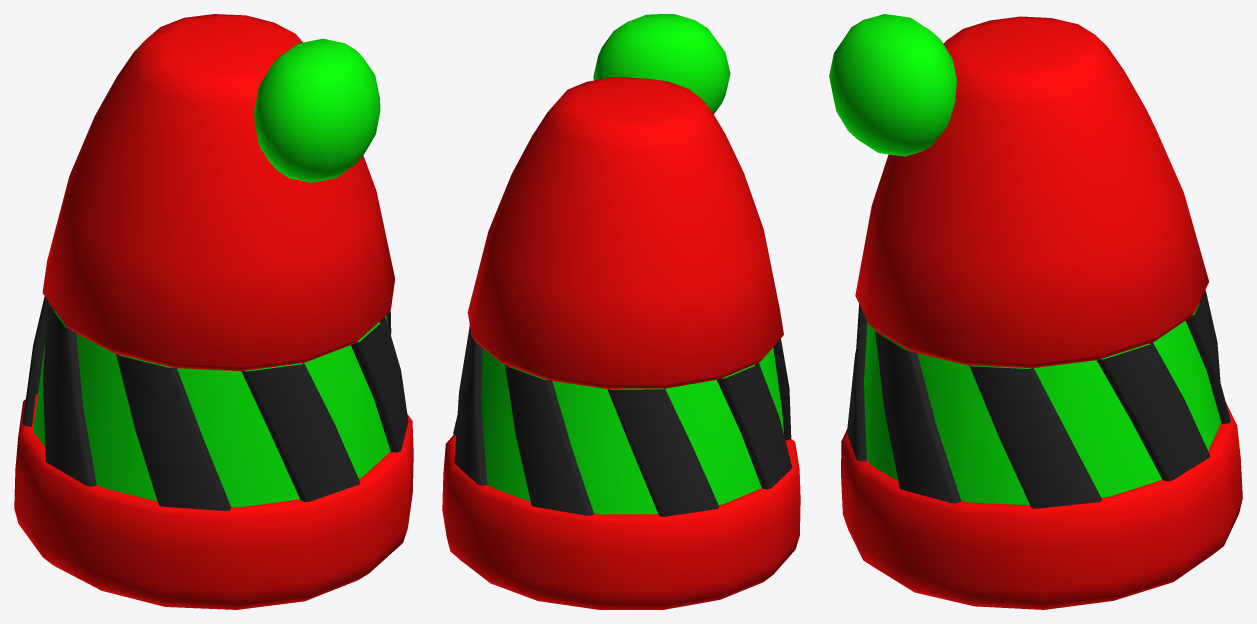
Rendered from Roboy_LowerLeg.fbx.
3 renders of one model, left to right at view 1: azimuth 30°, elevation 25°; view 2: azimuth 150°, elevation 25°; view 3: azimuth 270°, elevation 25°, orthographic. The views are drawn at different scales.
Parts seen in each view (by area): view 1: Robot01_LowerLeg; view 2: Robot01_LowerLeg; view 3: Robot01_LowerLeg.
Part boxes in pixels (x1=…): Robot01_LowerLeg: x1=14, y1=14, x2=413, y2=609; Robot01_LowerLeg: x1=442, y1=14, x2=800, y2=609; Robot01_LowerLeg: x1=829, y1=14, x2=1242, y2=609.
Bounding box in the file's own units: 26.6 × 39.14 × 27.48.
